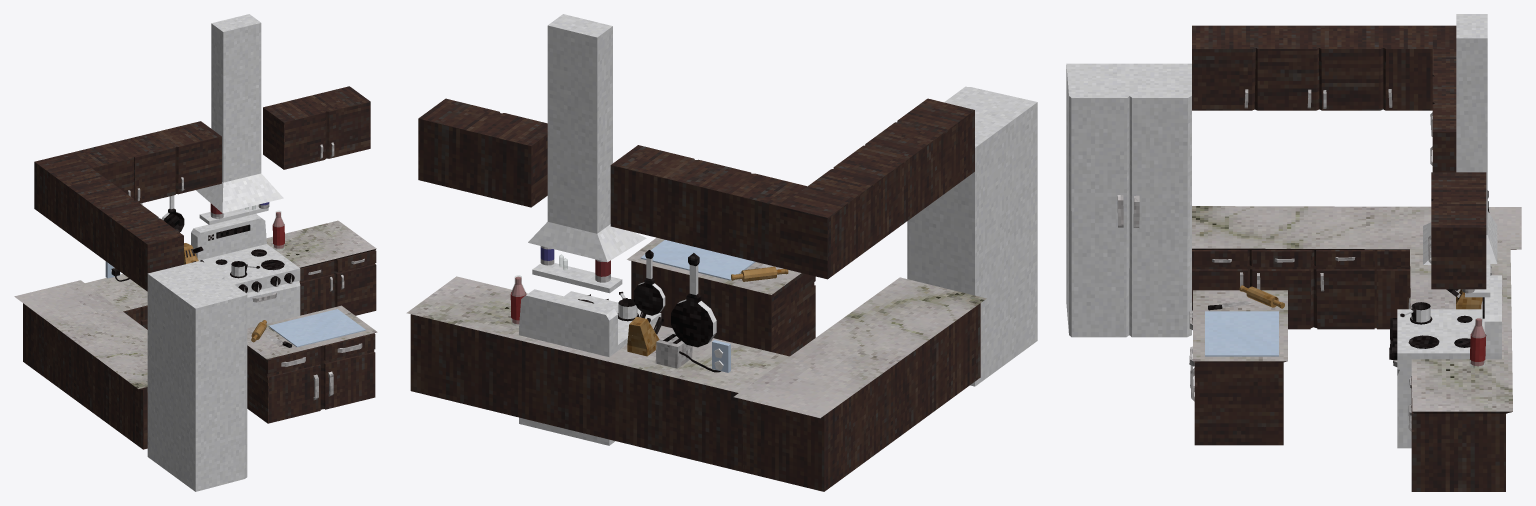
File: kitchen_.fbx
The picture shows the model from 3 angles, left to right: view 1: azimuth 30°, elevation 25°; view 2: azimuth 150°, elevation 25°; view 3: azimuth 270°, elevation 25°; orthographic projection. The views are drawn at different scales.
Visible parts, largest first — view 1: group1726520313, group925393257, group411587101, group1865585034, group1000109285, group1142142446, group1942942547, group913042301, group1490552587, group1999118543, group515853092, group1257611477 (+1 smaller); view 2: group1142142446, group925393257, group1726520313, group411587101, group1000109285, group1942942547, group1490552587, group1865585034, group913042301, group1722620986, group1999118543, group515853092 (+3 smaller); view 3: group1726520313, group925393257, group411587101, group1142142446, group1865585034, group913042301, group1490552587, group1000109285, group1999118543, group1942942547, group1257611477, group930845875.
Part boxes in pixels (<box>): group1726520313: <box>147,261,247,491</box>; group925393257: <box>14,280,147,449</box>; group411587101: <box>34,153,183,291</box>; group1865585034: <box>247,305,377,423</box>; group1000109285: <box>196,14,283,213</box>; group1142142446: <box>69,220,376,329</box>; group1942942547: <box>71,121,221,203</box>; group913042301: <box>191,214,300,328</box>; group1490552587: <box>263,86,370,169</box>; group1999118543: <box>268,309,365,347</box>; group515853092: <box>199,202,269,224</box>; group1257611477: <box>272,210,284,250</box>; group1142142446: <box>406,276,789,472</box>; group925393257: <box>734,277,986,491</box>; group1726520313: <box>907,86,1037,386</box>; group411587101: <box>780,98,974,279</box>; group1000109285: <box>528,14,646,262</box>; group1942942547: <box>610,145,806,267</box>; group1490552587: <box>418,98,547,207</box>; group1865585034: <box>627,237,815,356</box>; group913042301: <box>519,289,661,445</box>; group1722620986: <box>671,253,716,347</box>; group1999118543: <box>640,240,755,280</box>; group515853092: <box>532,246,622,293</box>; group1726520313: <box>1066,63,1191,337</box>; group925393257: <box>1192,206,1521,329</box>; group411587101: <box>1192,25,1456,110</box>; group1142142446: <box>1408,239,1512,491</box>; group1865585034: <box>1189,290,1287,445</box>; group913042301: <box>1389,275,1501,448</box>; group1490552587: <box>1428,172,1486,289</box>; group1000109285: <box>1423,14,1497,264</box>; group1999118543: <box>1205,311,1278,356</box>; group1942942547: <box>1430,49,1456,172</box>; group1257611477: <box>1469,316,1486,368</box>; group930845875: <box>1239,285,1284,308</box>.
Size of the model in its own units: 395 by 359 by 368.
